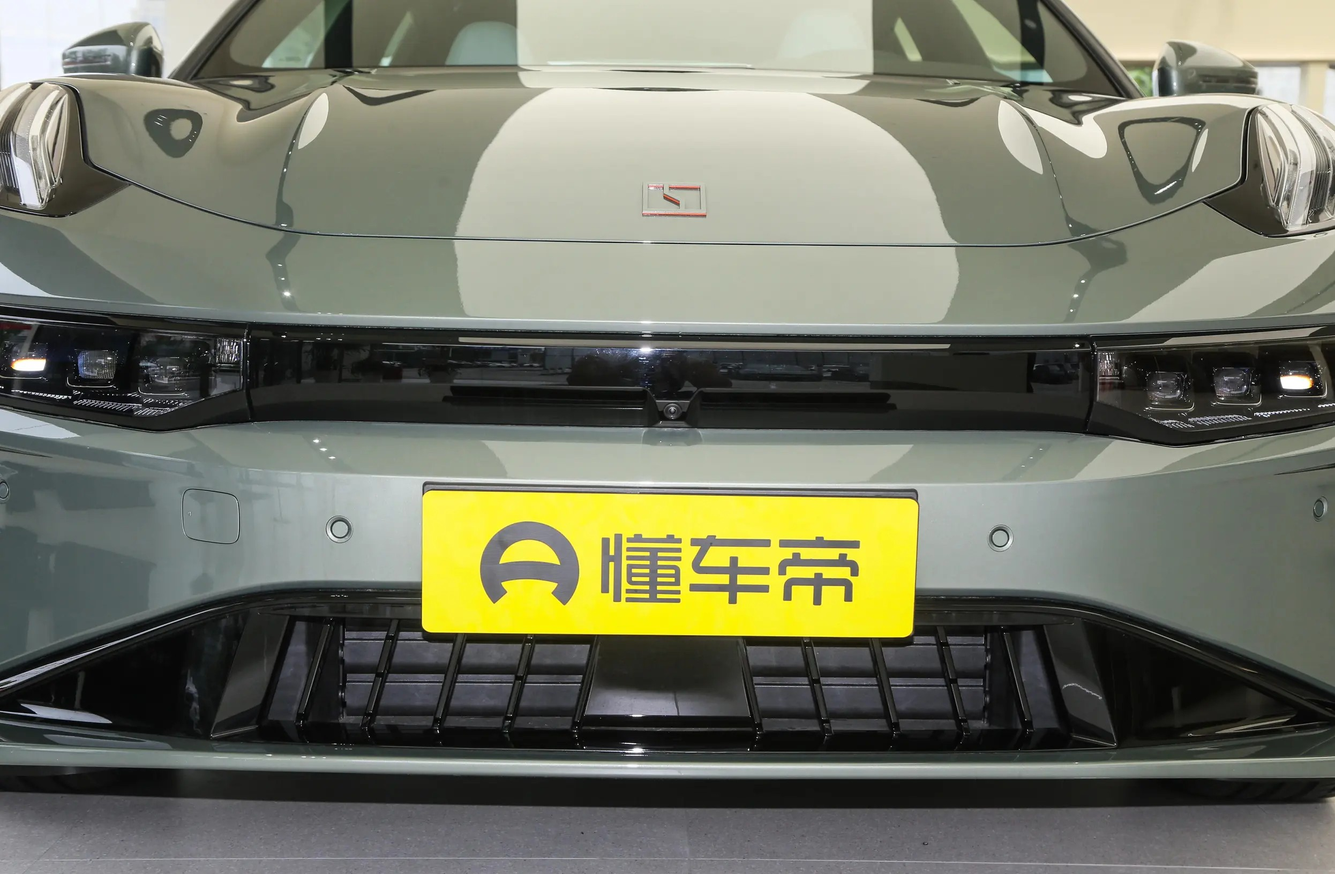ZEEKR: (643, 182, 705, 215)
